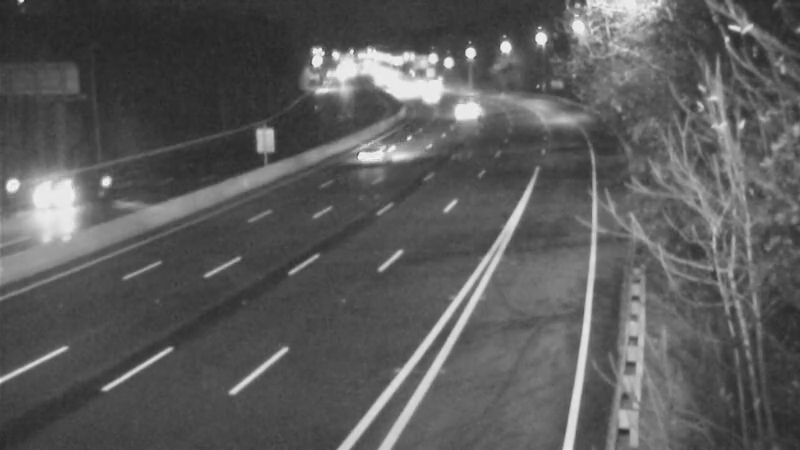vehicle: (327, 117, 407, 197), (21, 159, 101, 239), (433, 88, 483, 138)
